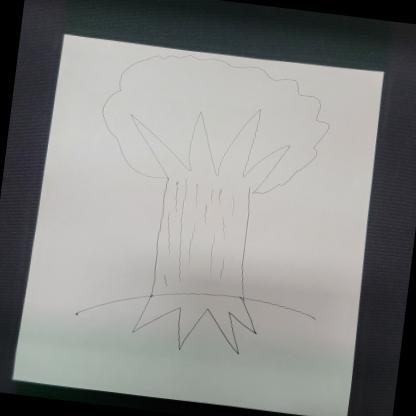branch_sharp: (122, 93, 293, 192)
crown_cloud: (93, 44, 336, 200)
root_under: (130, 278, 262, 361)
trunk_bark: (152, 191, 254, 283)
